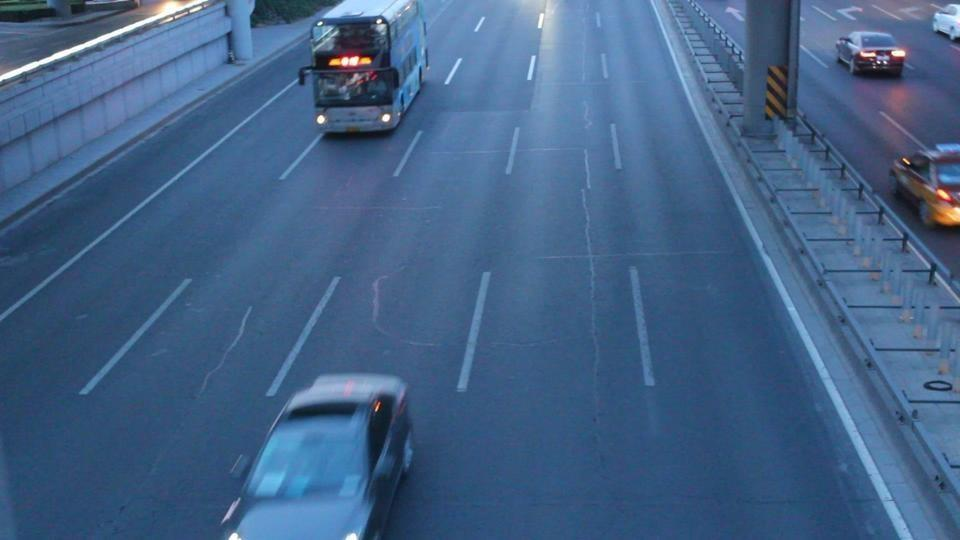car: (218, 372, 416, 538), (889, 143, 960, 229), (834, 30, 908, 77), (932, 4, 959, 43)
